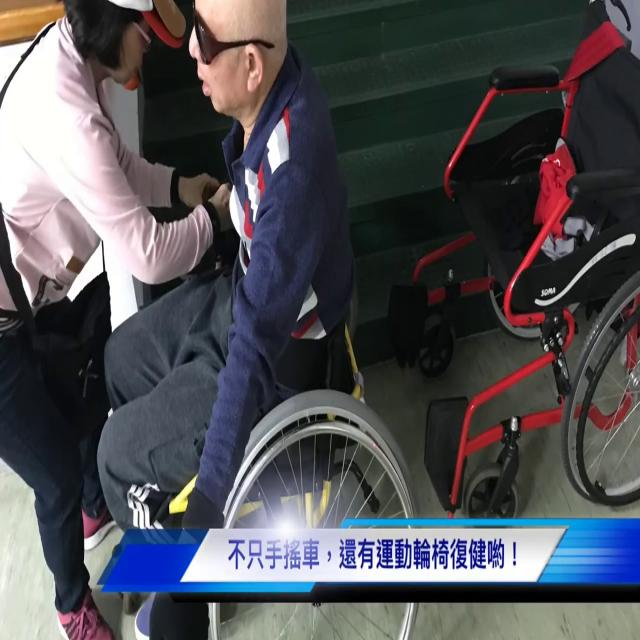wheelchairs: (389, 0, 640, 585), (121, 193, 441, 640)
